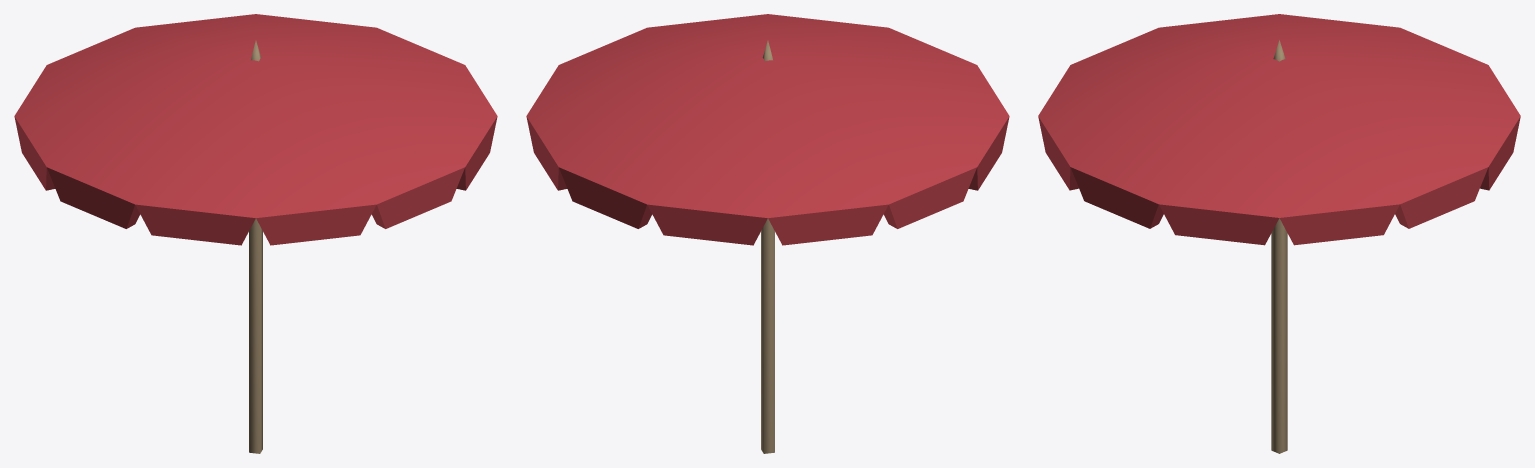
The picture shows the model from 3 angles, left to right: view 1: azimuth 30°, elevation 25°; view 2: azimuth 150°, elevation 25°; view 3: azimuth 270°, elevation 25°; orthographic projection.
Visible parts, largest first — view 1: umbrella_005; view 2: umbrella_005; view 3: umbrella_005.
Boxes of the visible parts, x1=… form: umbrella_005: x1=14, y1=14, x2=497, y2=453; umbrella_005: x1=526, y1=14, x2=1009, y2=453; umbrella_005: x1=1038, y1=14, x2=1520, y2=453.
Size of the model in its own units: 3.84 by 3.61 by 3.84.
